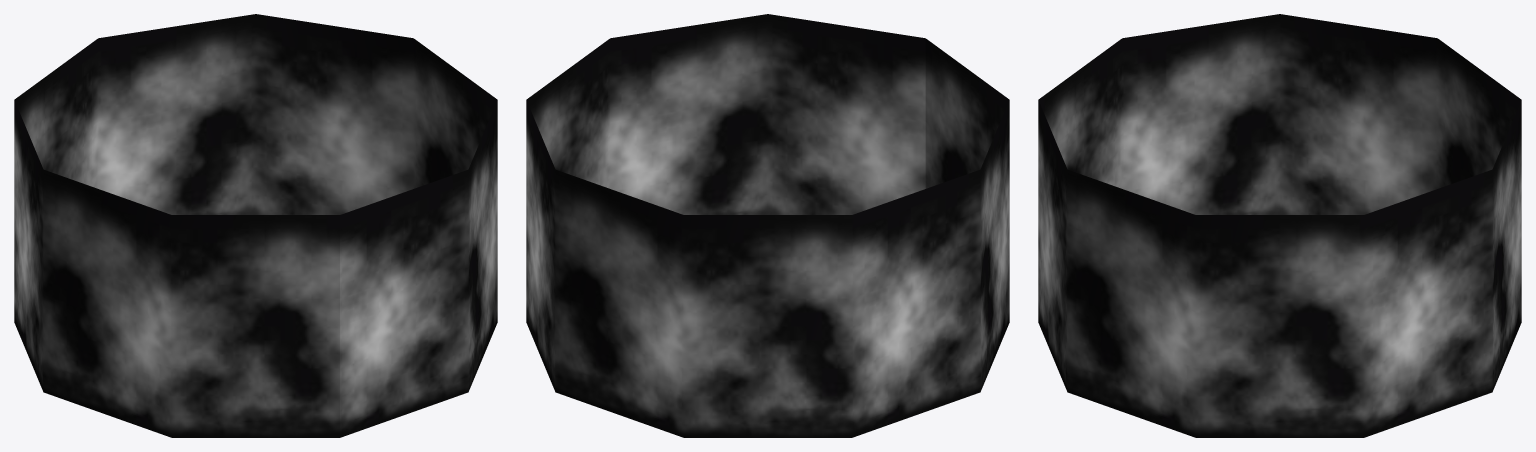
File: nder03.obj
3 views of the same model, side by side, from view 1: azimuth 30°, elevation 25°; view 2: azimuth 150°, elevation 25°; view 3: azimuth 270°, elevation 25° (orthographic).
Parts seen in each view (by area): view 1: nder03; view 2: nder03; view 3: nder03.
Part boxes in pixels (bbox=[...]): nder03: bbox=[14, 14, 497, 437]; nder03: bbox=[526, 14, 1009, 437]; nder03: bbox=[1038, 14, 1521, 437].
Bounding box in the file's own units: 2924 × 1511 × 2969.
